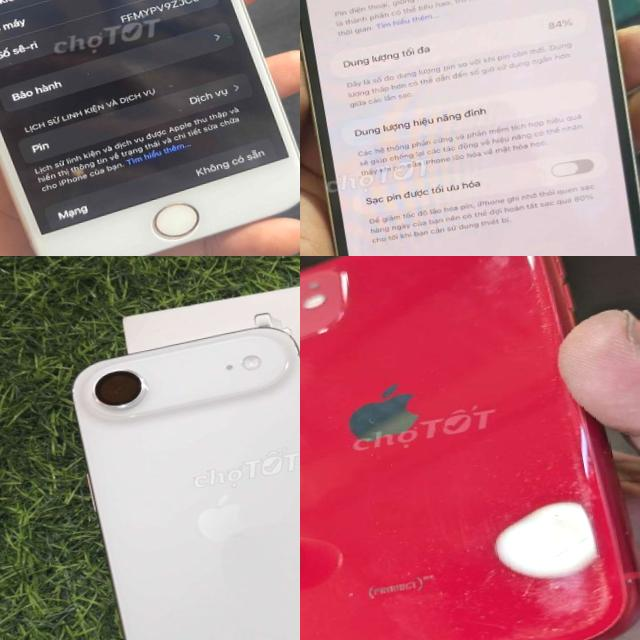scratch: (551, 408, 625, 640), (444, 256, 573, 343), (456, 563, 594, 640), (370, 552, 456, 613)
